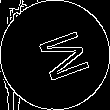M_W: (23, 25, 87, 85)
